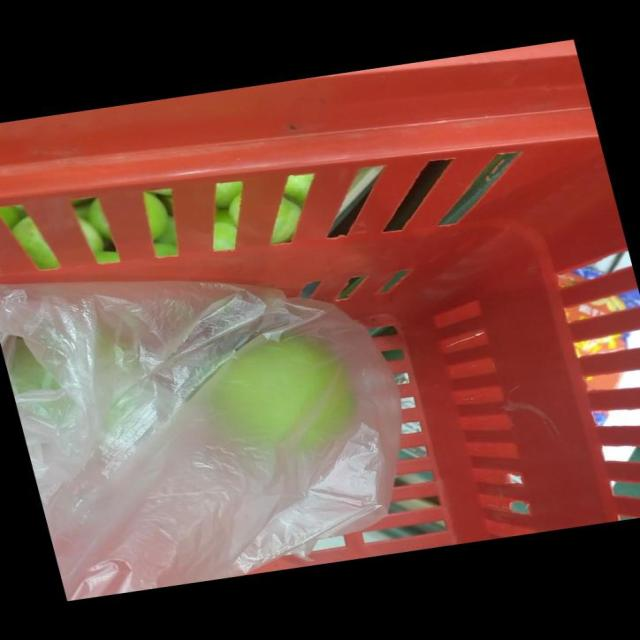Apple: (199, 335, 356, 450), (9, 318, 148, 429)
